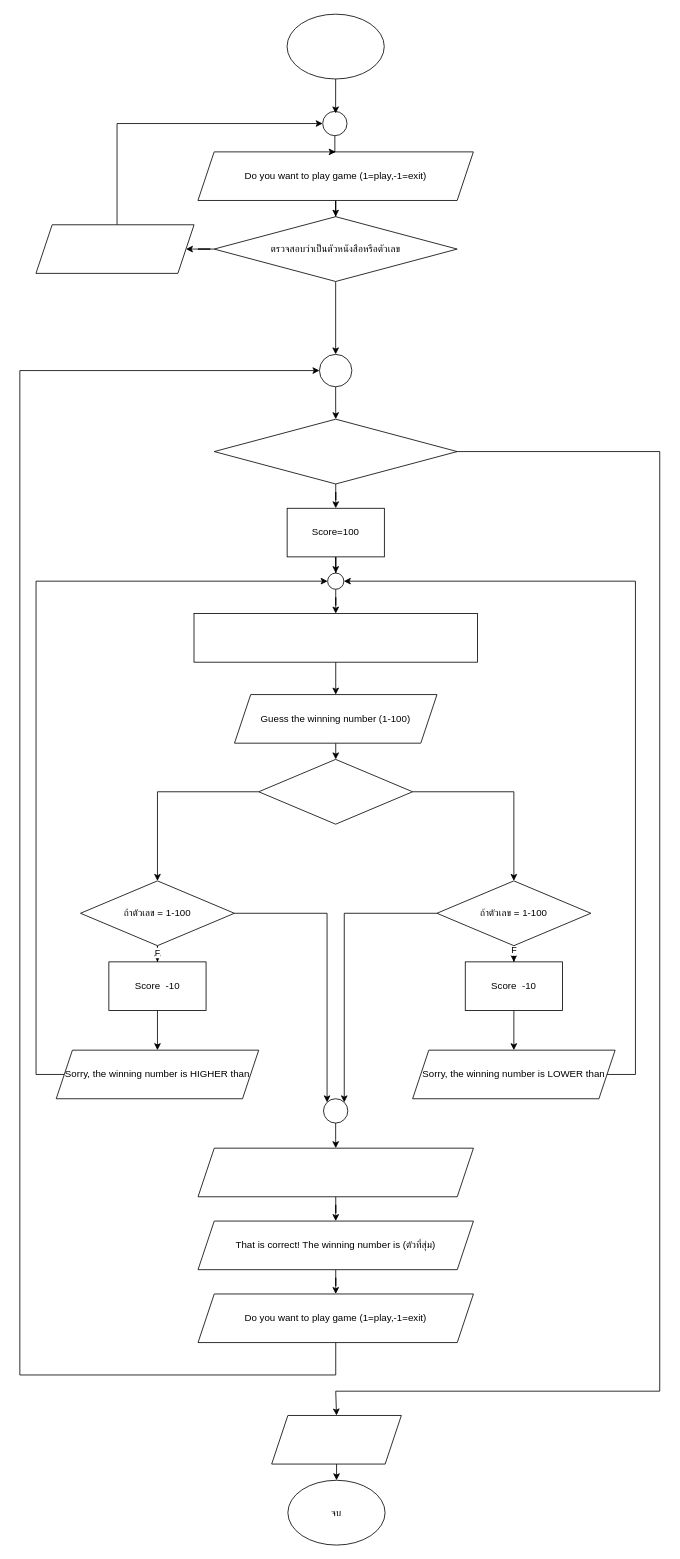
The diagram is 680 pixels wide and 1559 high, and some of its shapes have lost their labels. Here are the shapes that lost their labels. From the top down, the centre of each, then its label:
At [335,46]: "เริ่ม".
At [114,248]: "Please enter only 1 or -1.".
At [335,451]: "1=play || -1=exit".
At [335,637]: "Guess the winning number (1-100) :".
At [335,791]: "ตรวจสอบตัวเลย".
At [335,1172]: "Score this game:".
At [336,1439]: "See you again.".
